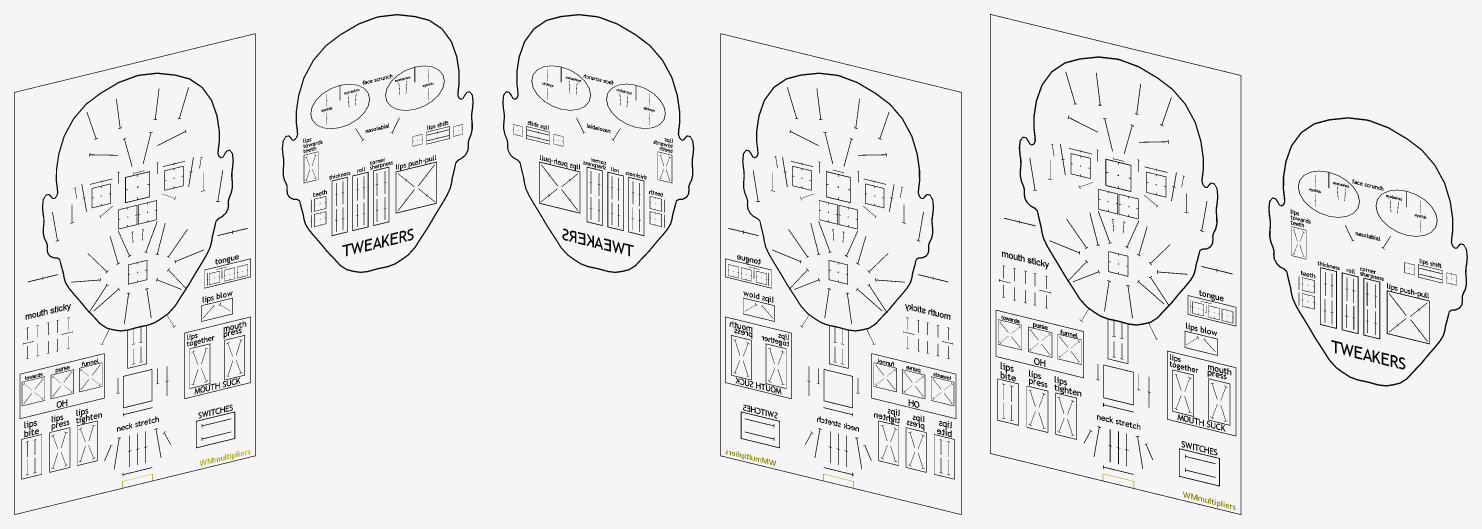
The model's file is controls_frame.fbx.
3 views of the same model, side by side, from view 1: azimuth 30°, elevation 25°; view 2: azimuth 150°, elevation 25°; view 3: azimuth 330°, elevation 25° (orthographic). The views are drawn at different scales.
Parts seen in each view (by area): view 1: CONTROLS_FRAME; view 2: CONTROLS_FRAME; view 3: CONTROLS_FRAME.
Boxes of the visible parts, x1,y1,x2,y2 form: CONTROLS_FRAME: (14, 14, 473, 514); CONTROLS_FRAME: (502, 14, 961, 514); CONTROLS_FRAME: (990, 14, 1467, 514).
Bounding box in the file's own units: 31.52 × 0.0895 × 27.72.
